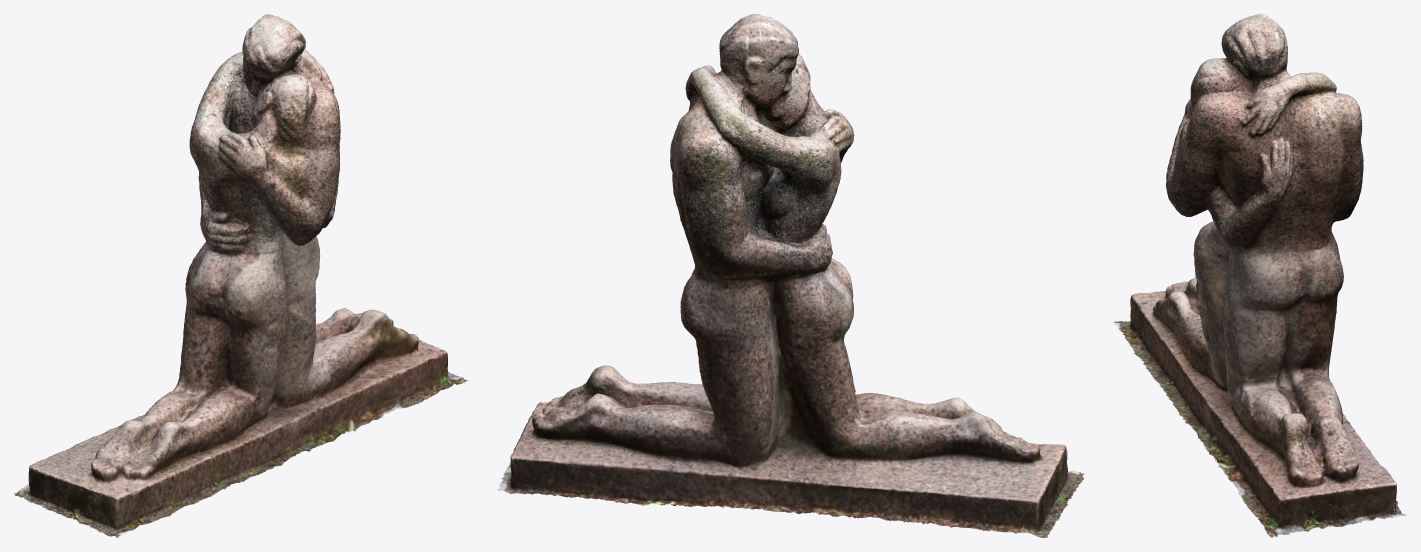
The model's file is preview.glb.
3 renders of one model, left to right at view 1: azimuth 30°, elevation 25°; view 2: azimuth 150°, elevation 25°; view 3: azimuth 270°, elevation 25°, orthographic. The views are drawn at different scales.
Visible parts, largest first — view 1: Object_9, Object_4; view 2: Object_4, Object_9; view 3: Object_9, Object_4.
Boxes of the visible parts, <box> form: Object_9: <box>64,15,468,536</box>; Object_4: <box>14,14,463,537</box>; Object_4: <box>498,14,1084,537</box>; Object_9: <box>499,15,1083,532</box>; Object_9: <box>1114,15,1404,537</box>; Object_4: <box>1113,14,1406,536</box>.
Bounding box in the file's own units: 1.05 × 0.901 × 0.5694.
Materials: 2 (2 with a texture image).
